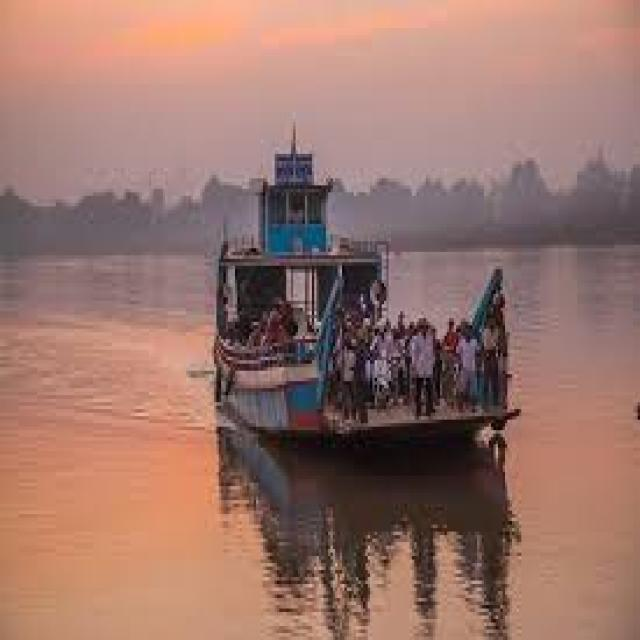passenger ship: (203, 121, 511, 437)
